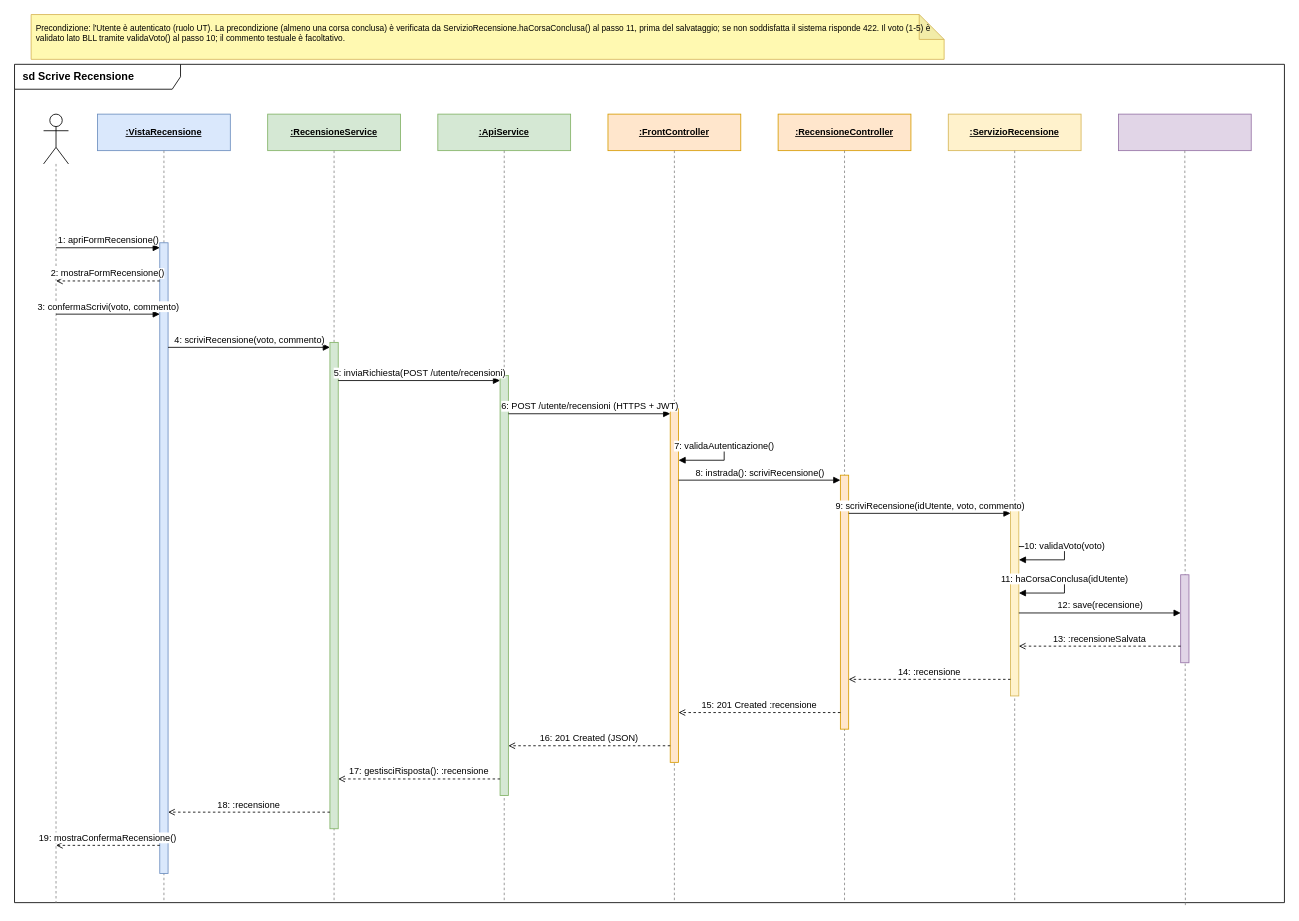
Image size: 1299x921. Some labels were removed from this diagram. Each missing label, with the box of its shape:
:RecensioneRepository: (1118, 113, 1251, 151)
:Utente: (43, 113, 68, 164)
